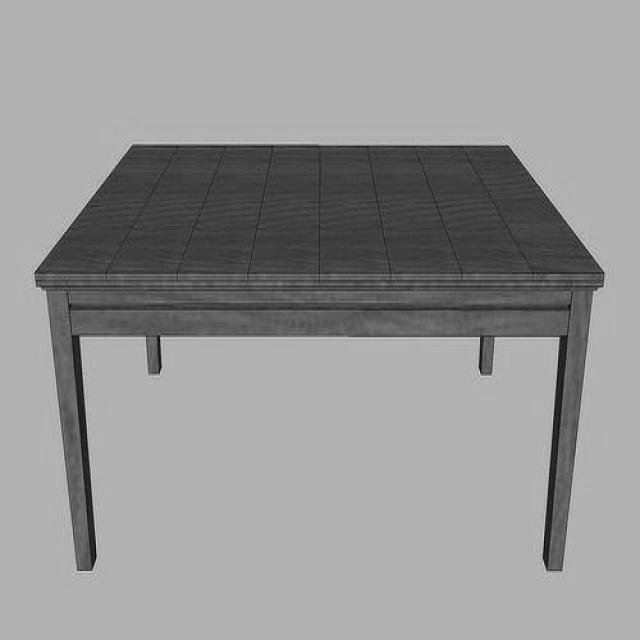table: (36, 144, 608, 574)
